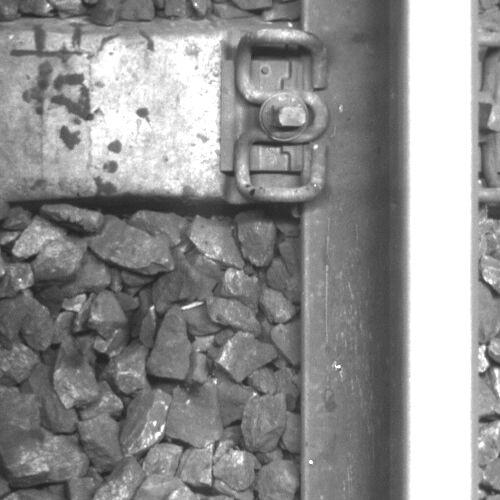rail: (402, 1, 480, 500)
tie_concr: (1, 30, 299, 197)
vossloh: (221, 29, 330, 202)
